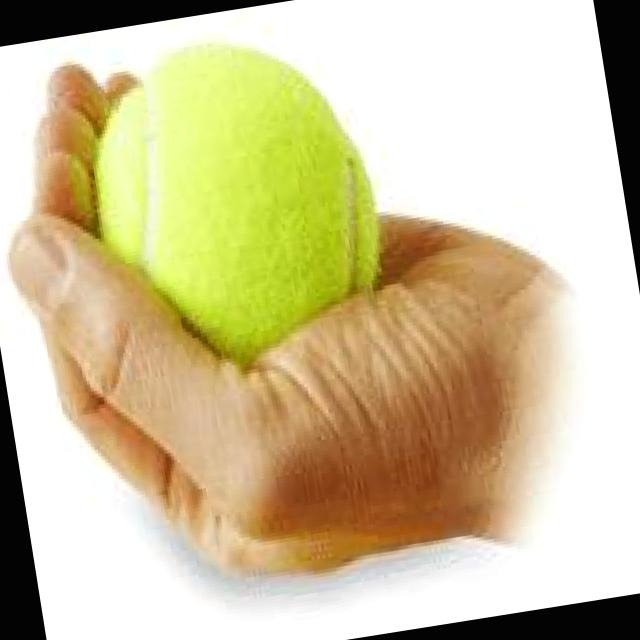Tennis Ball: (92, 45, 384, 371)
